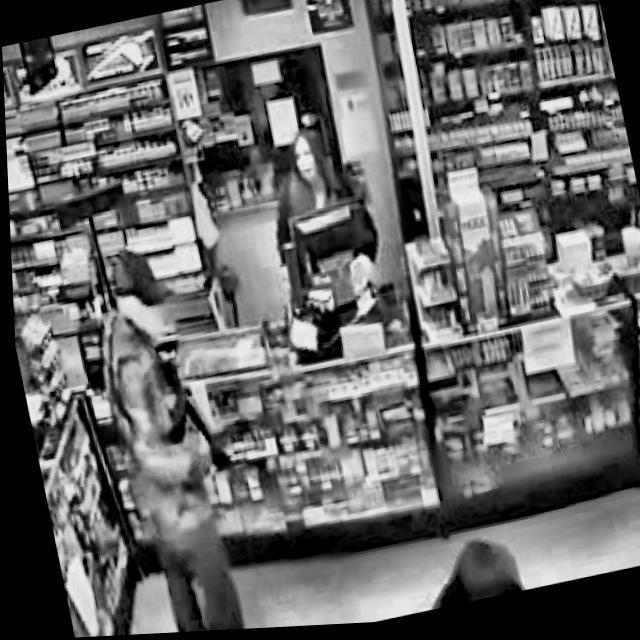robbery: (69, 233, 273, 638)
